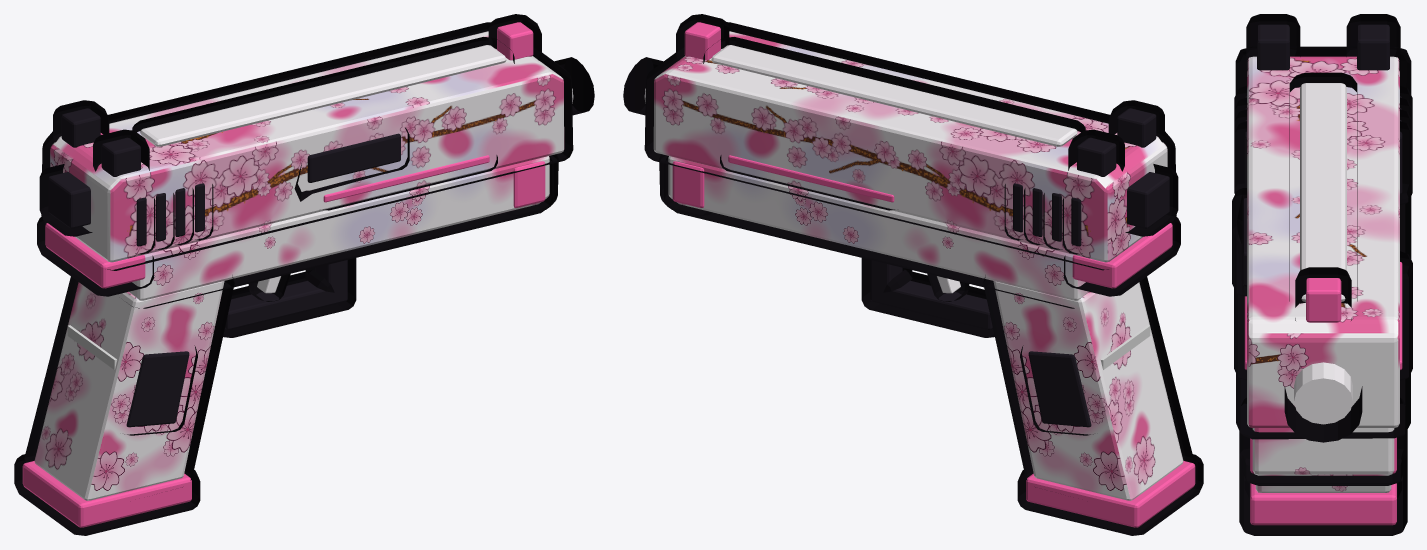
The model's file is Deagle_Sakura.fbx.
3 renders of one model, left to right at view 1: azimuth 30°, elevation 25°; view 2: azimuth 150°, elevation 25°; view 3: azimuth 270°, elevation 25°, orthographic. The views are drawn at different scales.
Parts seen in each view (by area): view 1: ChargingHandle_Sakura, Body_Sakura, ChargingHandle_Contour, Body_Contour, Body_Noir, ChargingHandle_Blanc, ChargingHandle_Noir, Magazine_Rose, Body_Rose, ChargingHandle_Rose, Magazine_Contour; view 2: ChargingHandle_Sakura, Body_Sakura, Body_Contour, ChargingHandle_Contour, Body_Noir, ChargingHandle_Blanc, Magazine_Rose, ChargingHandle_Noir, Body_Rose, ChargingHandle_Rose, Magazine_Contour; view 3: ChargingHandle_Sakura, ChargingHandle_Contour, ChargingHandle_Blanc, Body_Sakura, Magazine_Rose, Body_Contour, ChargingHandle_Noir, Body_Blanc, Magazine_Contour, ChargingHandle_Rose.
Boxes of the visible parts, bbox=[...] form: ChargingHandle_Sakura: bbox=[50, 31, 564, 262]; Body_Sakura: bbox=[34, 156, 549, 500]; ChargingHandle_Contour: bbox=[41, 14, 573, 270]; Body_Contour: bbox=[24, 57, 594, 487]; Body_Noir: bbox=[48, 172, 347, 427]; ChargingHandle_Blanc: bbox=[140, 45, 506, 146]; ChargingHandle_Noir: bbox=[61, 108, 400, 246]; Magazine_Rose: bbox=[22, 461, 191, 527]; Body_Rose: bbox=[45, 161, 545, 288]; ChargingHandle_Rose: bbox=[323, 22, 533, 202]; Magazine_Contour: bbox=[14, 454, 200, 535]; ChargingHandle_Sakura: bbox=[653, 31, 1167, 262]; Body_Sakura: bbox=[668, 156, 1183, 500]; Body_Contour: bbox=[623, 57, 1193, 487]; ChargingHandle_Contour: bbox=[644, 14, 1176, 270]; Body_Noir: bbox=[870, 172, 1169, 427]; ChargingHandle_Blanc: bbox=[711, 45, 1077, 146]; Magazine_Rose: bbox=[1026, 461, 1195, 527]; ChargingHandle_Noir: bbox=[1013, 108, 1156, 246]; Body_Rose: bbox=[672, 161, 1172, 288]; ChargingHandle_Rose: bbox=[684, 22, 894, 202]; Magazine_Contour: bbox=[1017, 454, 1203, 535]; ChargingHandle_Sakura: bbox=[1247, 56, 1399, 427]; ChargingHandle_Contour: bbox=[1232, 14, 1412, 439]; ChargingHandle_Blanc: bbox=[1300, 83, 1346, 301]; Body_Sakura: bbox=[1252, 428, 1394, 492]; Magazine_Rose: bbox=[1250, 483, 1396, 525]; Body_Contour: bbox=[1239, 386, 1407, 498]; ChargingHandle_Noir: bbox=[1242, 24, 1402, 286]; Body_Blanc: bbox=[1294, 362, 1352, 424]; Magazine_Contour: bbox=[1239, 471, 1407, 535]; ChargingHandle_Rose: bbox=[1244, 262, 1402, 369].
Bounding box in the file's own units: 1.31 × 0.8907 × 0.3067.
Materials: 15 (3 with a texture image).
